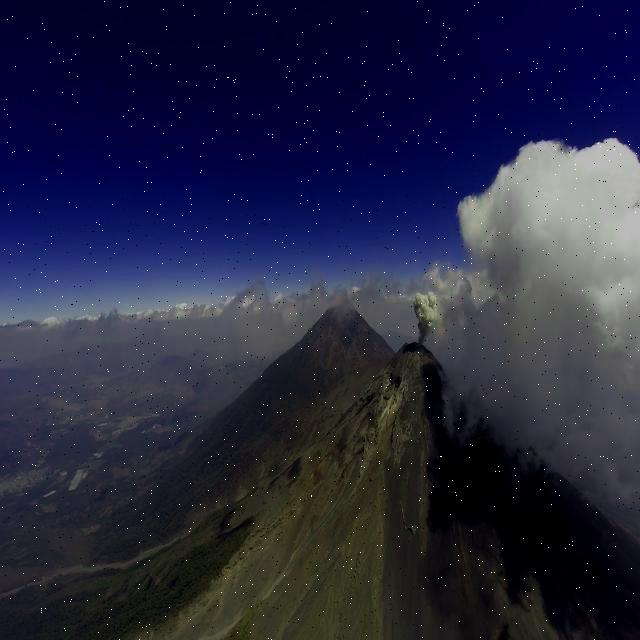Plume: (412, 292, 438, 347)
Summit: (327, 340, 447, 468)
